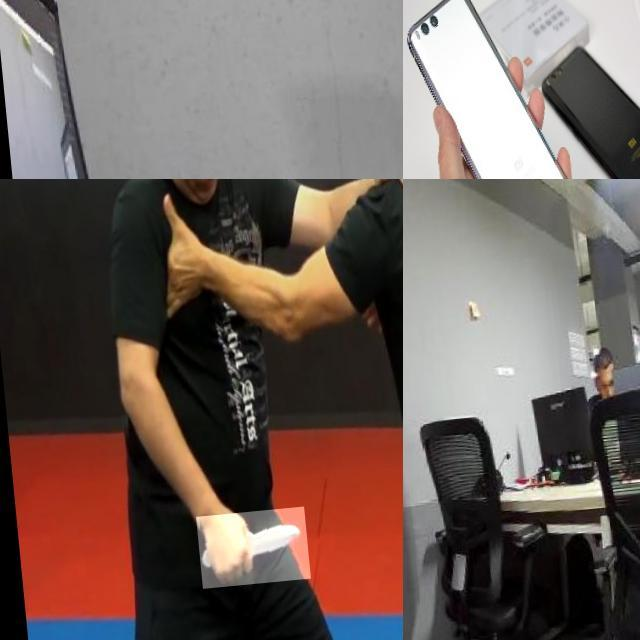-: (186, 512, 300, 592), (223, 0, 403, 39), (403, 349, 418, 436)
